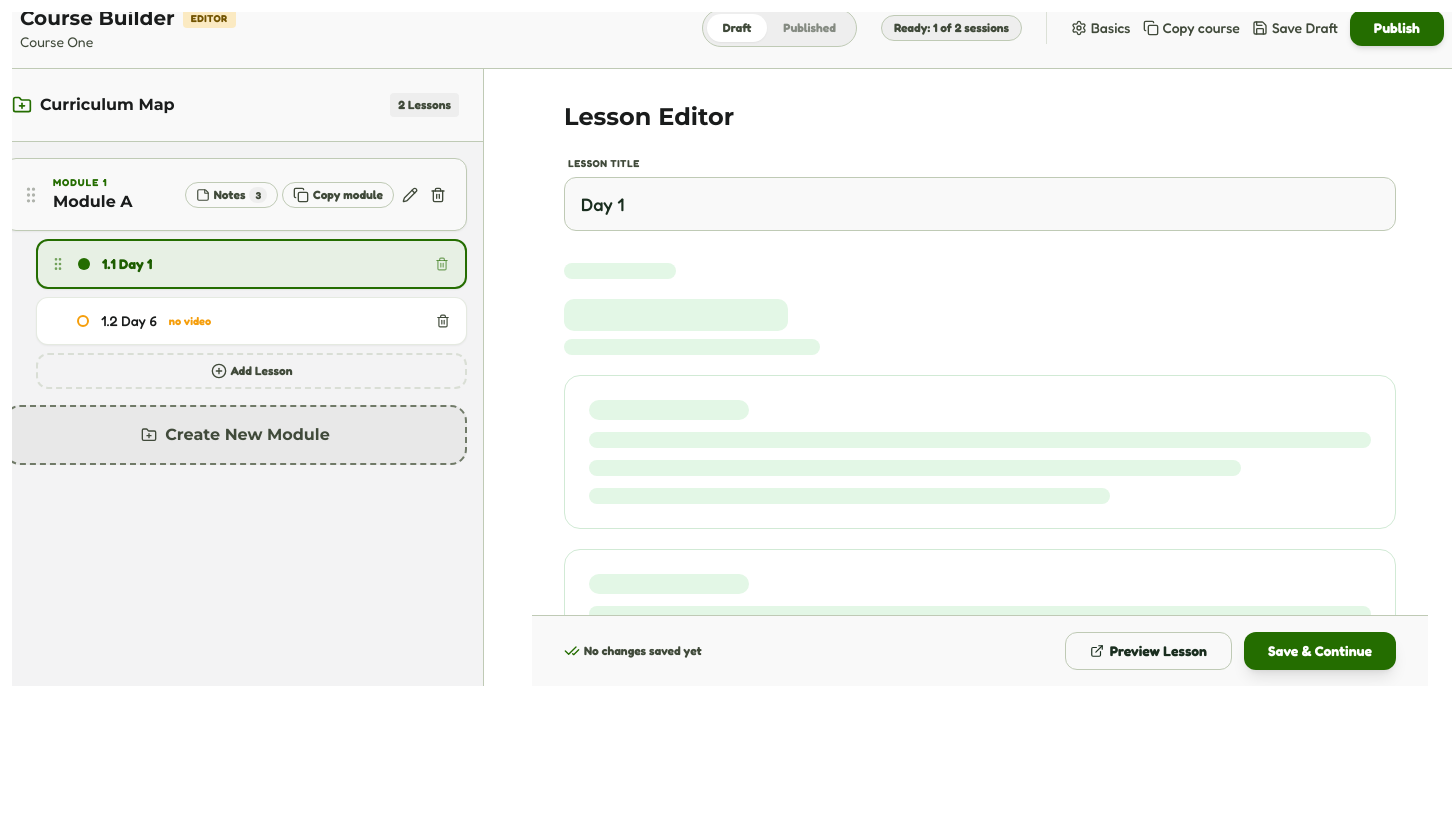
Test case: module header actions › Notes chip shows the count and opens the module notes panel
This screenshot has width=1452, height=822.
Click the button "Notes 3".
click(231, 194)  # box [185,182,278,208]
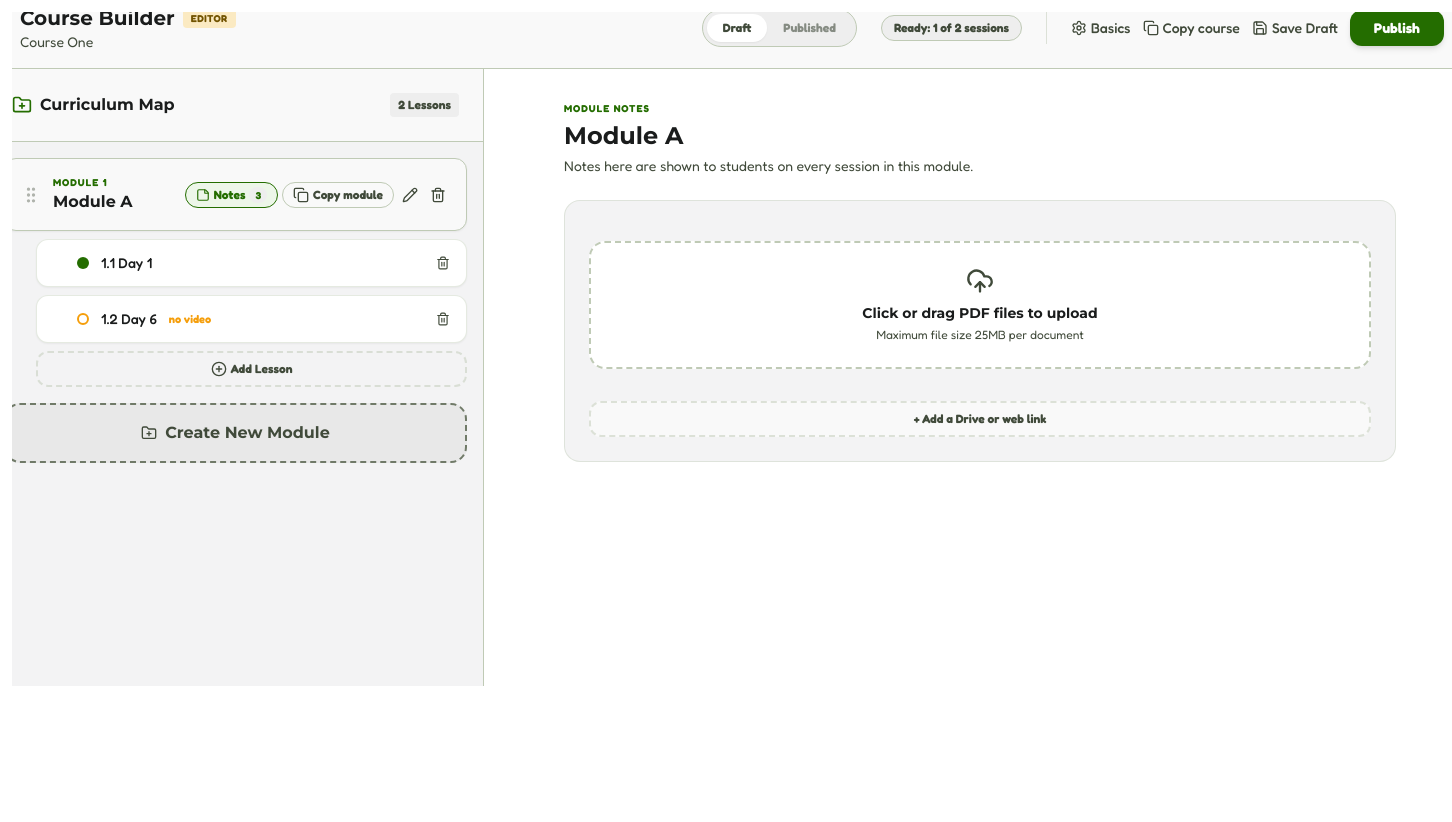
Now the text "Notes here are shown to students on every session in this module." is shown, box [564,157,973,174]
